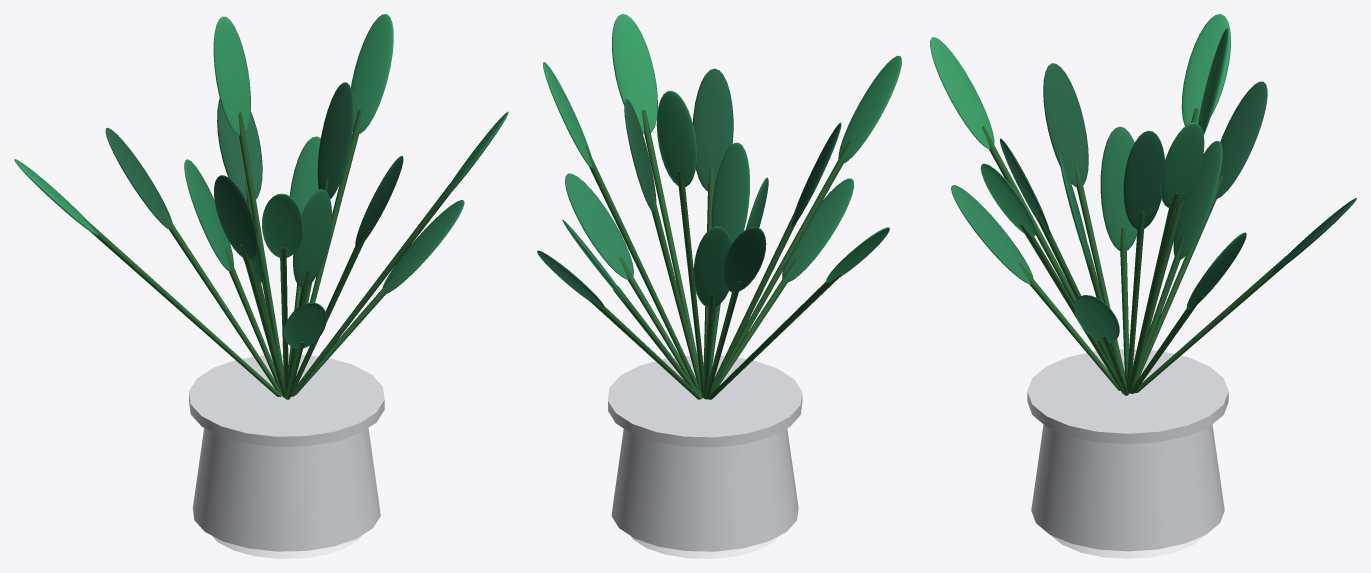
Rendered from plant_white.glb.
The picture shows the model from 3 angles, left to right: view 1: azimuth 30°, elevation 25°; view 2: azimuth 150°, elevation 25°; view 3: azimuth 270°, elevation 25°; orthographic projection. The views are drawn at different scales.
Visible parts, largest first — view 1: plant_white; view 2: plant_white; view 3: plant_white.
Part boxes in pixels (left/top/right/bottom): plant_white: left=14, top=14, right=508, bottom=558; plant_white: left=537, top=14, right=901, bottom=558; plant_white: left=930, top=14, right=1356, bottom=558.
Bounding box in the file's own units: 2.35 × 2.78 × 2.21.
